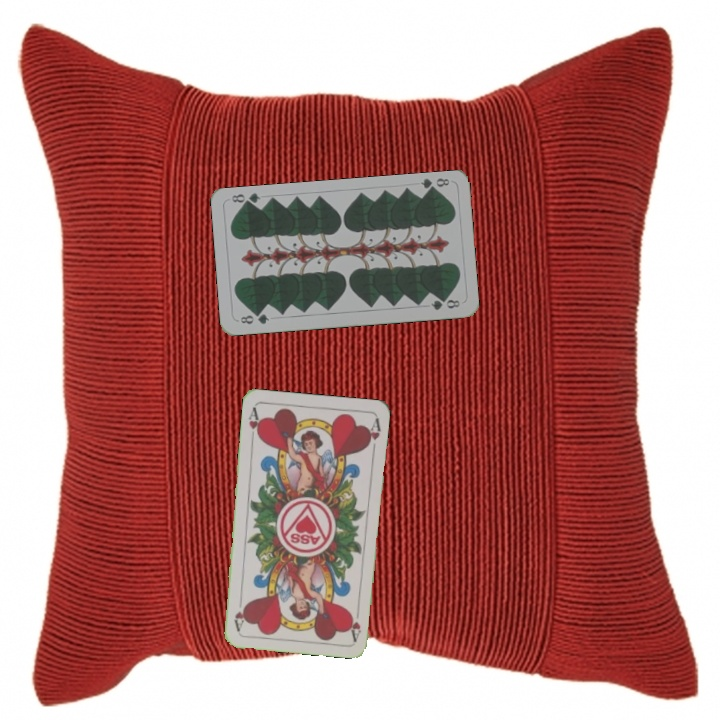G8: (417, 174, 452, 195), (236, 309, 272, 327)
HA: (244, 403, 264, 444), (346, 602, 363, 643)
